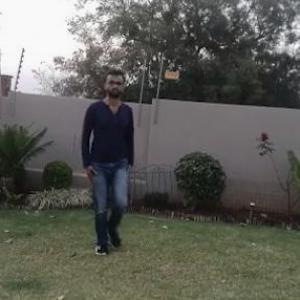follow: (84, 66, 135, 256)
